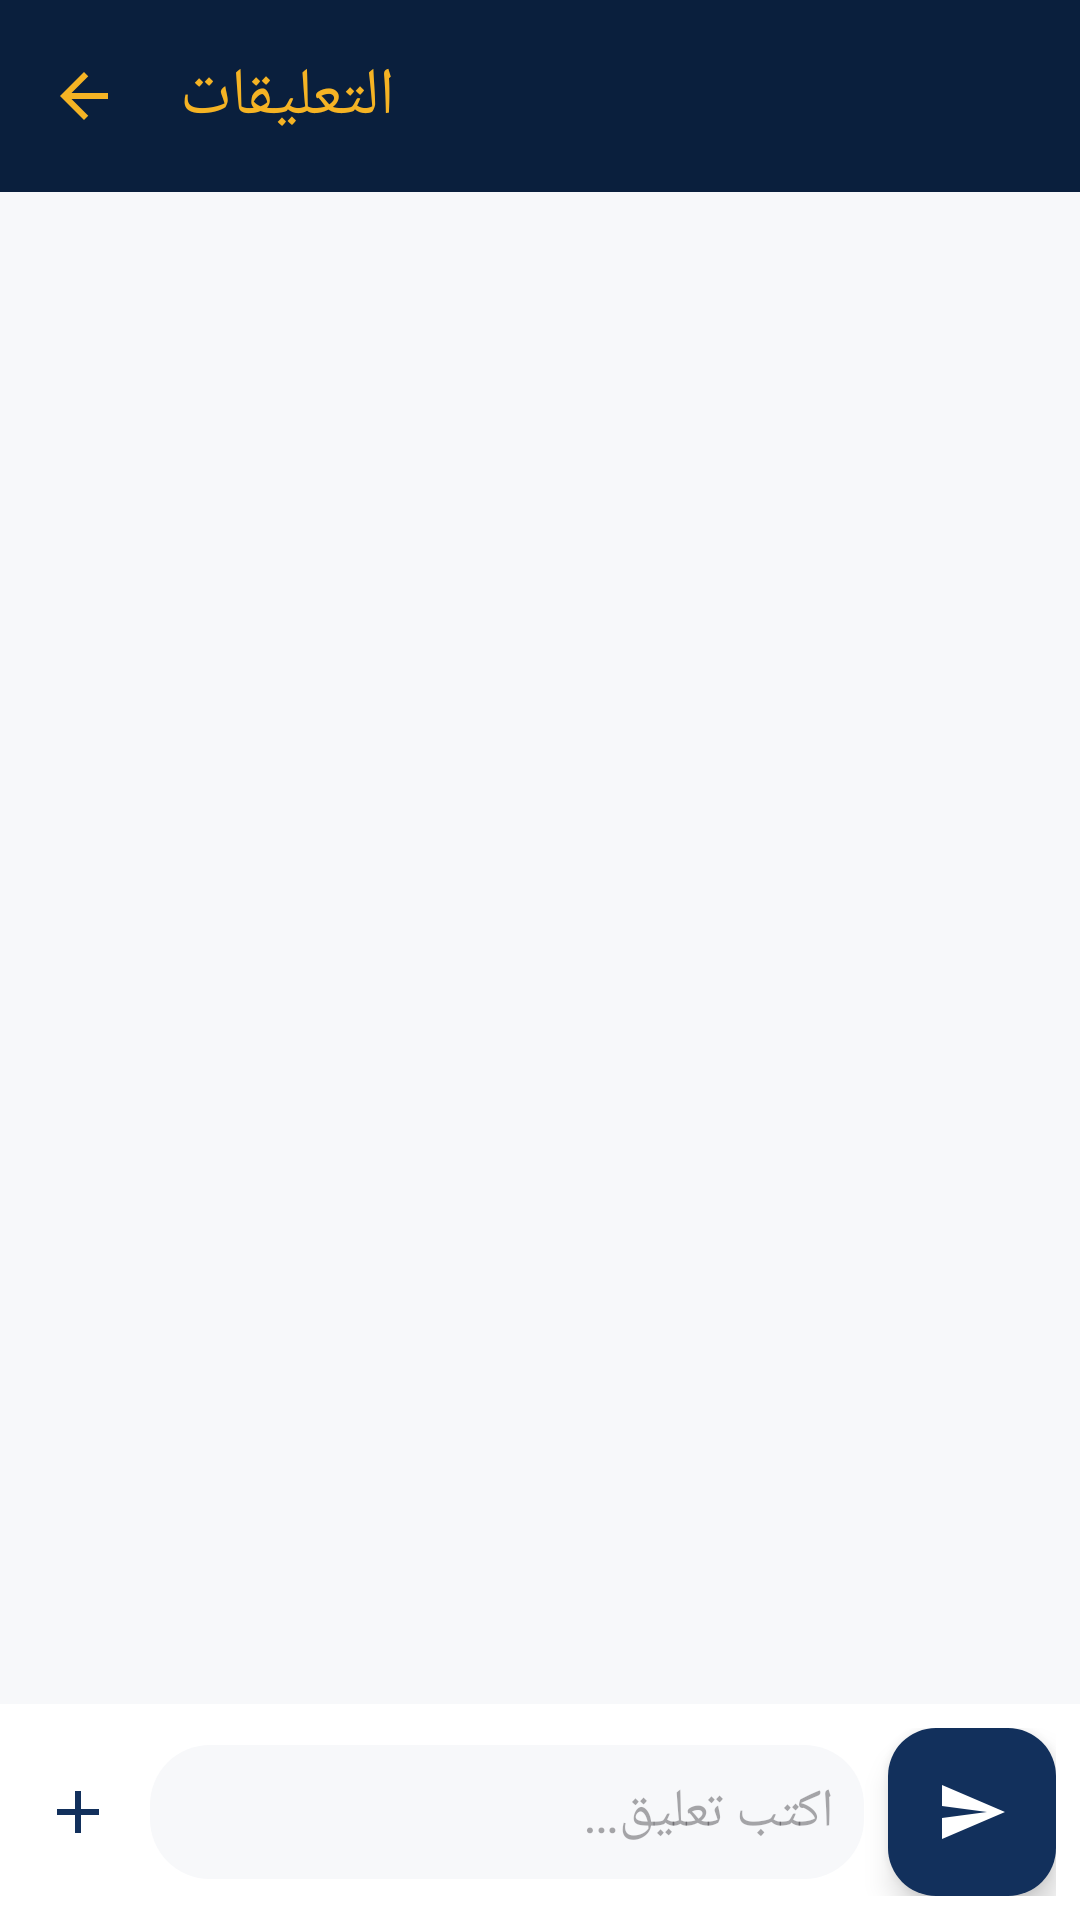

Icons on this 1080 × 1920 Android screen, each with the point to tap as point (x, y):
add: point (78, 1812)
send: point (972, 1812)
